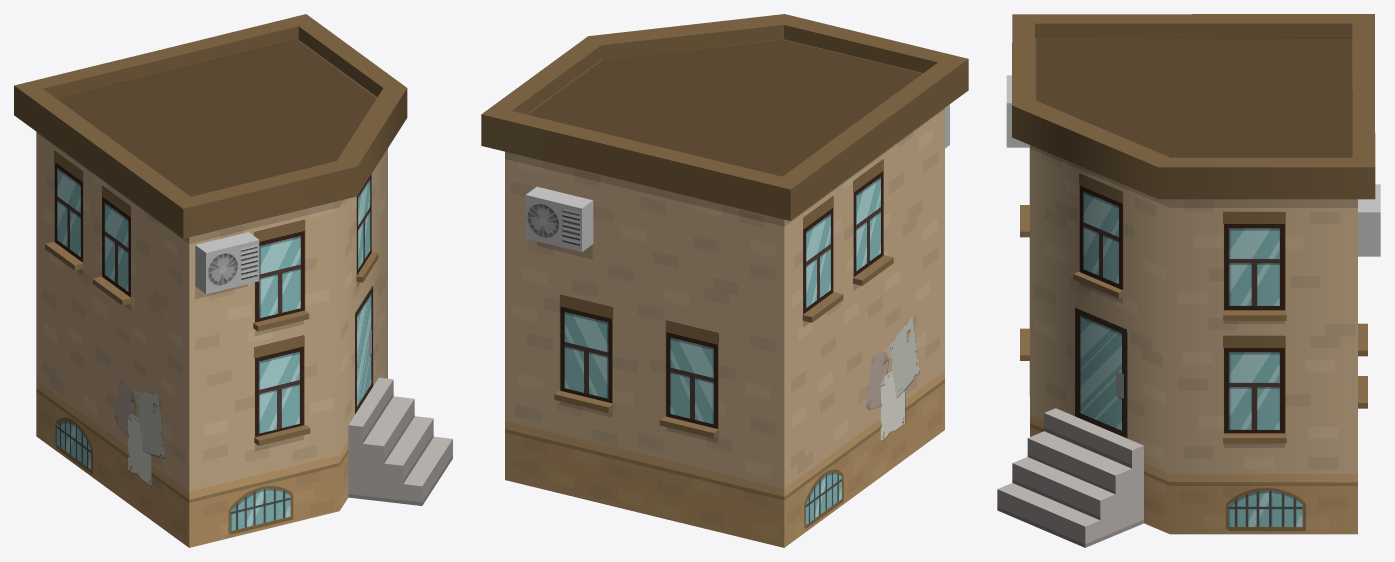
File: city_building_02.fbx
3 views of the same model, side by side, from view 1: azimuth 30°, elevation 25°; view 2: azimuth 150°, elevation 25°; view 3: azimuth 270°, elevation 25° (orthographic). The views are drawn at different scales.
Visible parts, largest first — view 1: city:polySurface334; view 2: city:polySurface334; view 3: city:polySurface334.
Boxes of the visible parts, x1=… form: city:polySurface334: x1=14, y1=14, x2=452, y2=547; city:polySurface334: x1=481, y1=14, x2=968, y2=547; city:polySurface334: x1=997, y1=14, x2=1380, y2=547.
Size of the model in its own units: 5.94 by 6.51 by 6.04.
